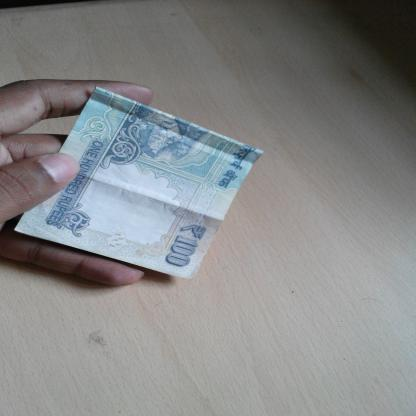Old100Back: (14, 85, 264, 280)
